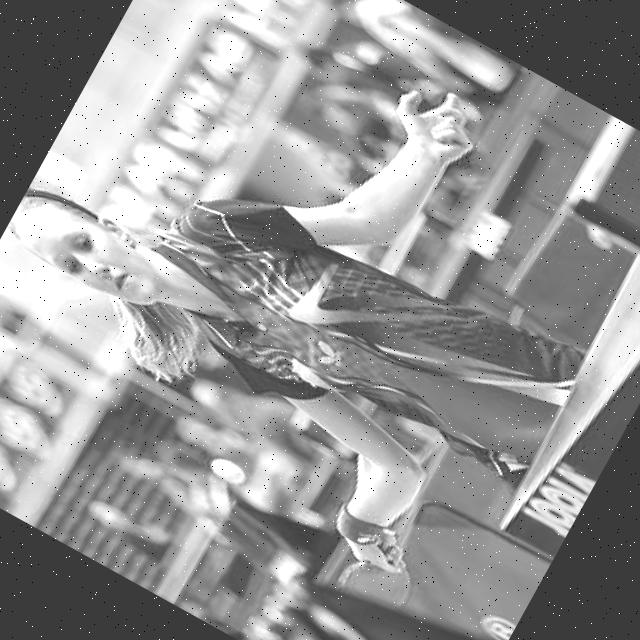ping-pong-ball: (206, 452, 248, 488)
